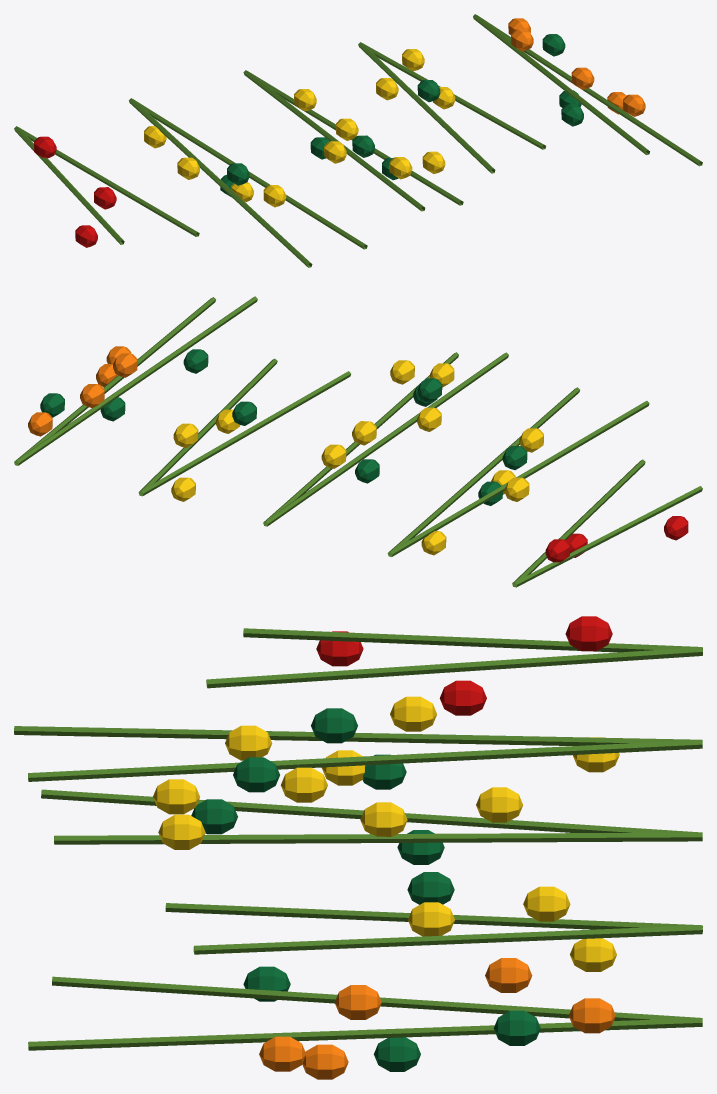
The model's file is r11c0_stems.obj.
The picture shows the model from 3 angles, top to bottom: view 1: azimuth 30°, elevation 25°; view 2: azimuth 150°, elevation 25°; view 3: azimuth 270°, elevation 25°; orthographic projection. The views are drawn at different scales.
Visible parts, largest first — view 1: r11c0_stems; view 2: r11c0_stems; view 3: r11c0_stems.
Boxes of the visible parts, x1,y1,x2,y2 form: r11c0_stems: (14, 14, 702, 267); r11c0_stems: (14, 296, 702, 587); r11c0_stems: (14, 616, 702, 1079).
Size of the model in its own units: 2.21 by 0.2649 by 1.45.
